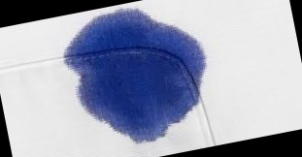ink: (70, 15, 202, 141)
